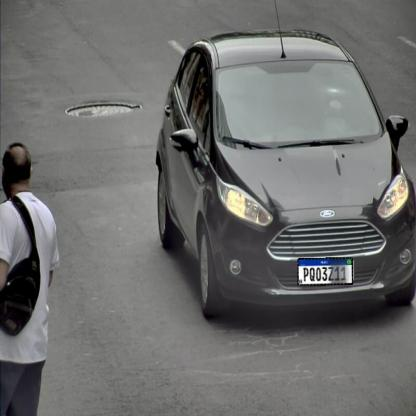PlacaM: (298, 257, 353, 286)
